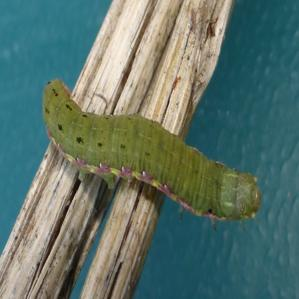Beet armyworm: (29, 64, 281, 241)
